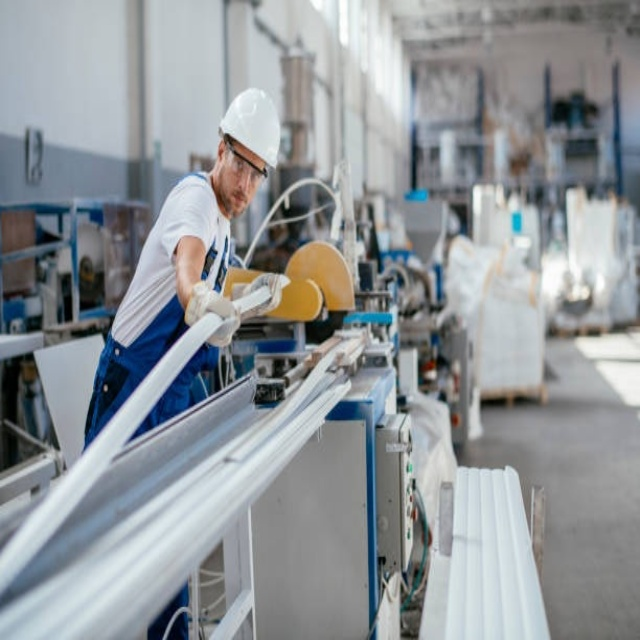Gafas: (224, 137, 268, 182)
Guantes: (185, 282, 238, 332), (243, 272, 290, 314)
Sin_mascara: (229, 182, 248, 215)
